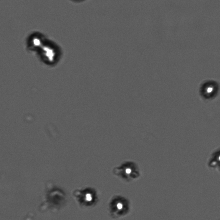Dead Cell: (45, 187, 67, 208)
Living Cell: (39, 42, 61, 66), (108, 194, 132, 216), (198, 77, 218, 100), (117, 160, 140, 180), (75, 186, 98, 206), (25, 29, 44, 49)
